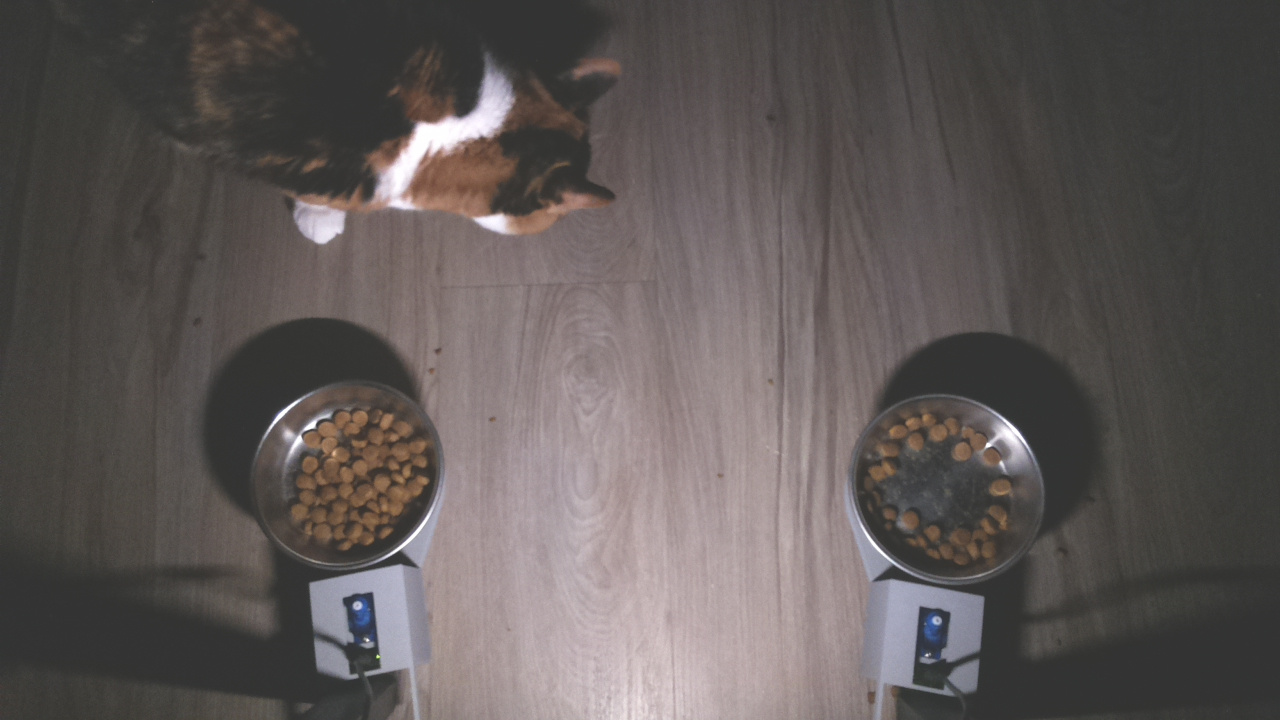bella: (409, 29, 634, 246)
open_bowl: (240, 372, 444, 576), (842, 389, 1048, 589)
